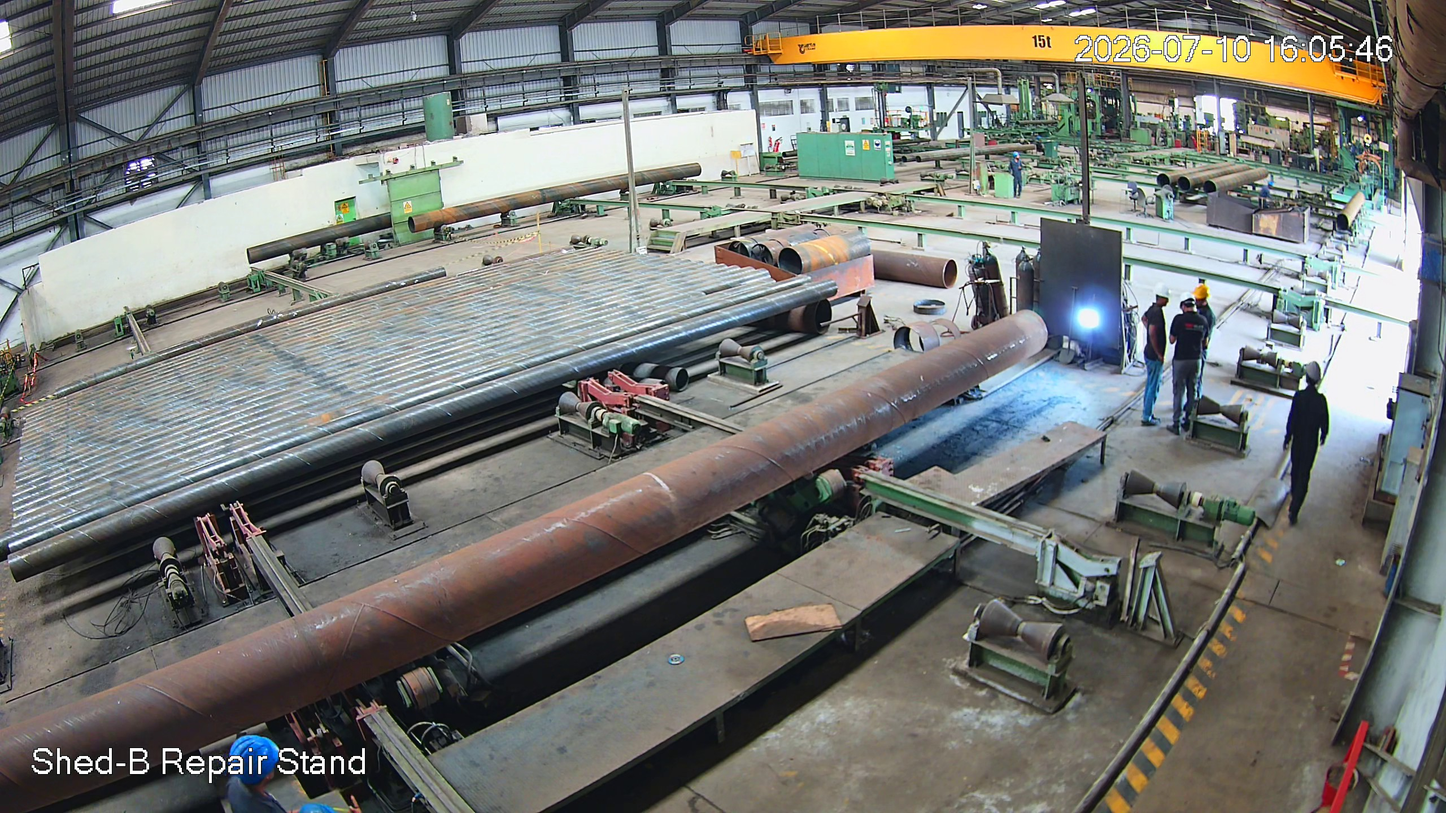Helmet: (1295, 356, 1336, 401), (1177, 290, 1198, 329), (1149, 282, 1173, 312)
Person: (1281, 360, 1330, 534), (1138, 285, 1178, 431), (1170, 295, 1205, 431)
